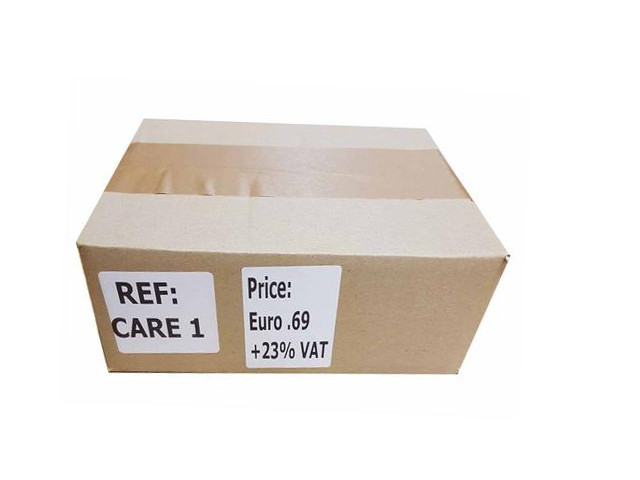cardboard: (75, 117, 508, 372)
